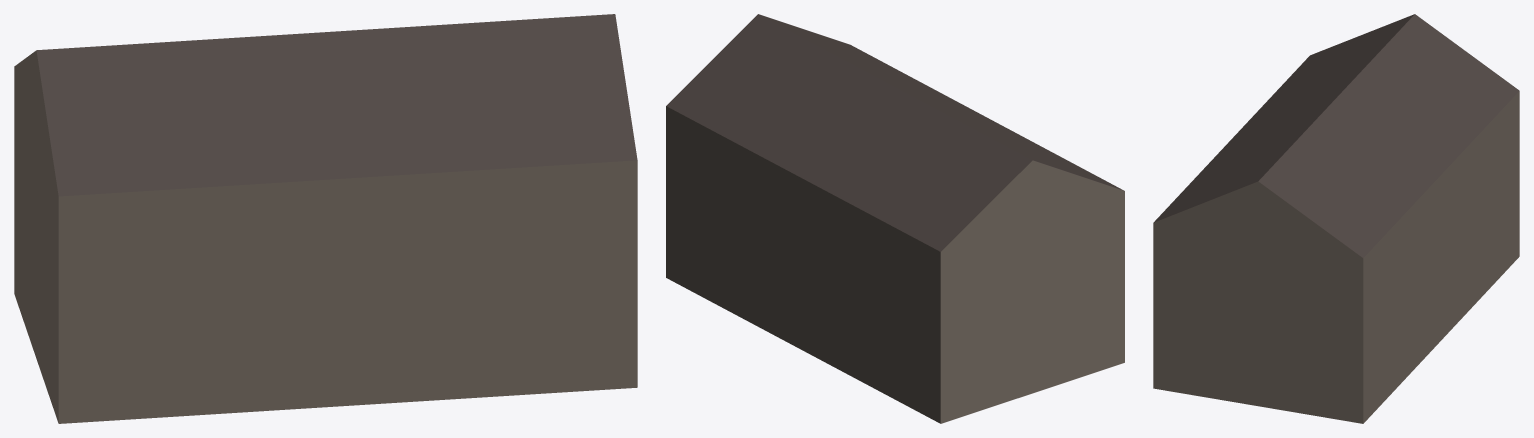
3 views of the same model, side by side, from view 1: azimuth 30°, elevation 25°; view 2: azimuth 150°, elevation 25°; view 3: azimuth 270°, elevation 25° (orthographic). The views are drawn at different scales.
Visible parts, largest first — view 1: HP-w178564468; view 2: HP-w178564468; view 3: HP-w178564468.
Boxes of the visible parts, bbox=[...] form: HP-w178564468: bbox=[14, 14, 637, 423]; HP-w178564468: bbox=[666, 14, 1124, 423]; HP-w178564468: bbox=[1153, 14, 1519, 423].
Bounding box in the file's own units: 15.76 × 8.14 × 12.03.
